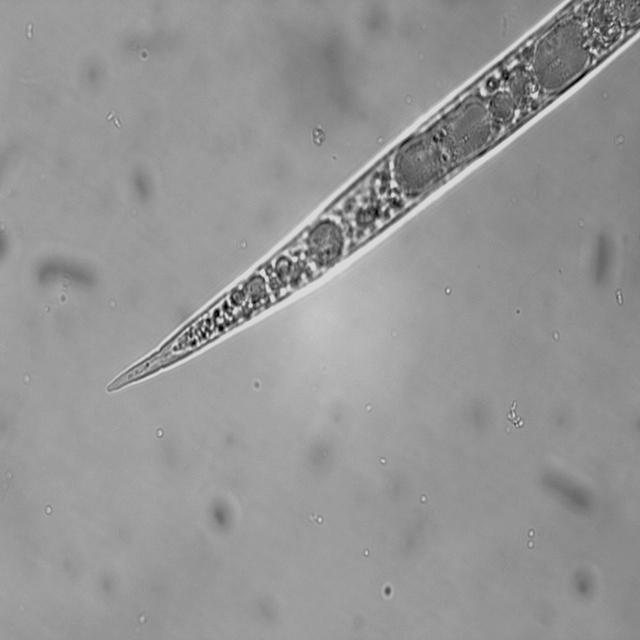Meloidogyne: (93, 0, 640, 402)
